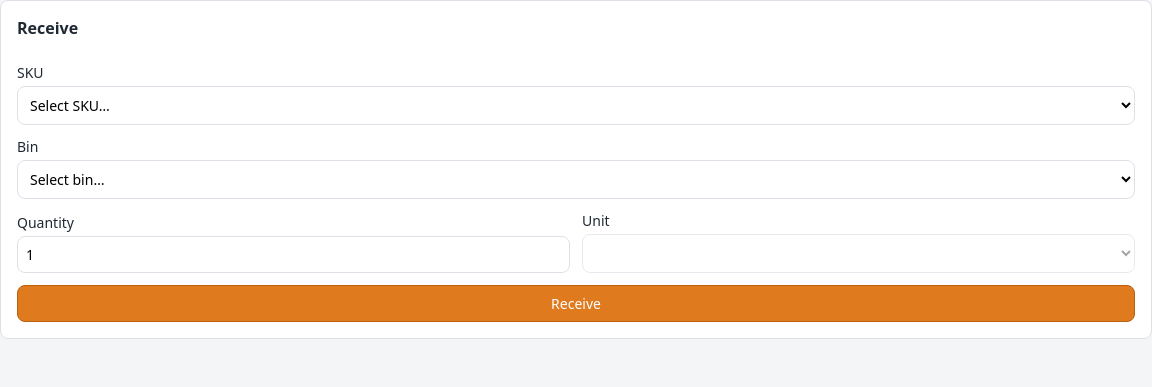
Scenario: ReceiveForm › shows API errors
Select "TEE — Milk" in the dropdown labelled "SKU". click: (576, 106)
box: x1=17 y1=86 x2=1135 y2=125
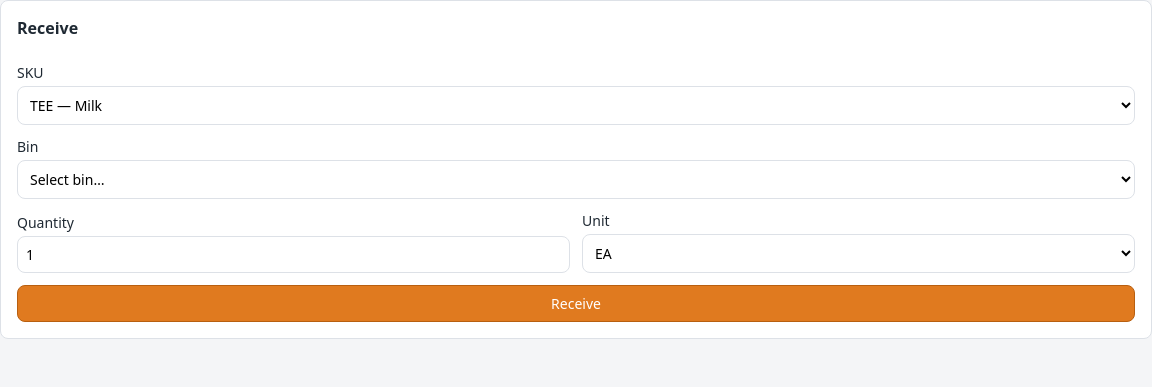
Select "A-01-01-1-A (A)" in the dropdown labelled "Bin". click: (576, 180)
box: x1=17 y1=160 x2=1135 y2=199
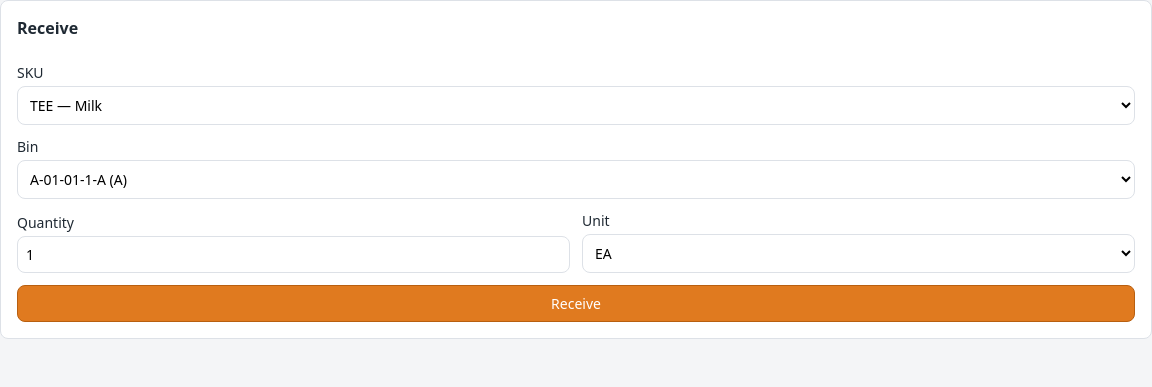
Click the button "Receive". click: (576, 304)
box: x1=17 y1=285 x2=1135 y2=322
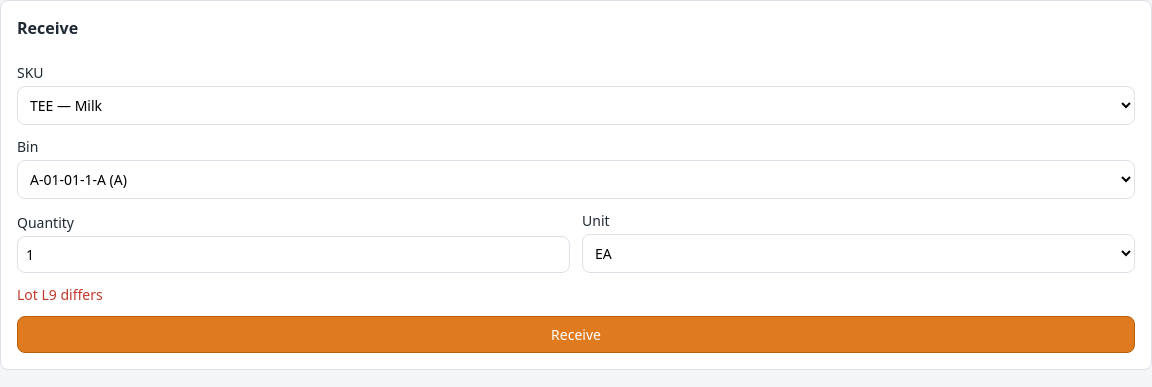
Expected: the message reads "Lot L9 differs", x1=17 y1=285 x2=103 y2=304
